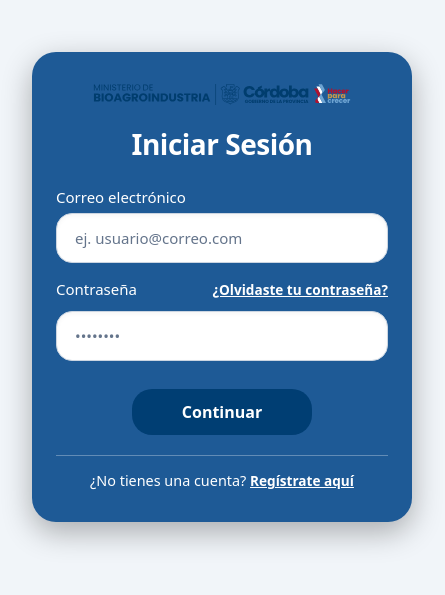
Test case: Pruebas del componente Login (Frontend) › TC-L-10 / TC-L-11: Muestra error si la contraseña es menor a 8 caracteres o está vacía
# Ingresamos un email válido pero una contraseña corta
Type "usuario@correo.com" into the field labelled "Correo electrónico" at [222, 238], box [56, 214, 388, 264]
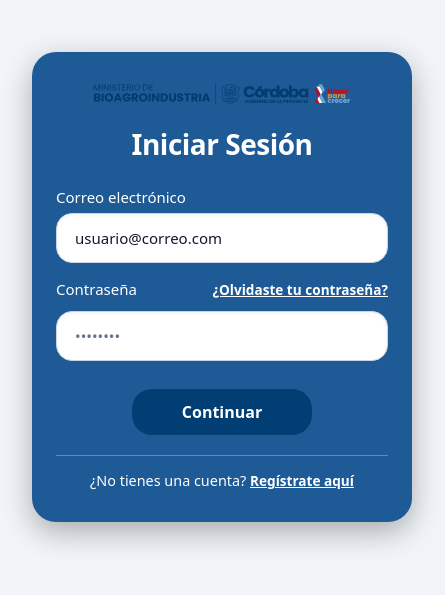
Type "corta" into the password field labelled "Contraseña" at [222, 336], box [56, 312, 388, 362]
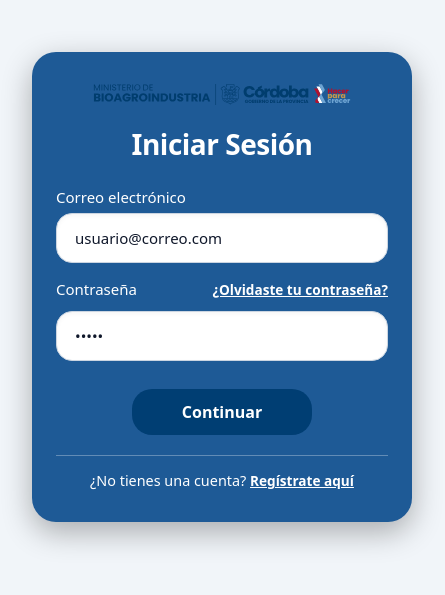
Click the button "Continuar" at [222, 412], box [132, 390, 312, 436]
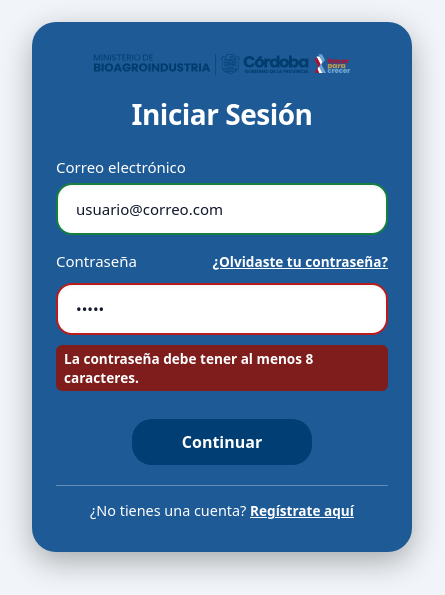
Now the text "La contraseña debe tener al menos 8 caracteres." is shown, box [56, 346, 388, 392]
